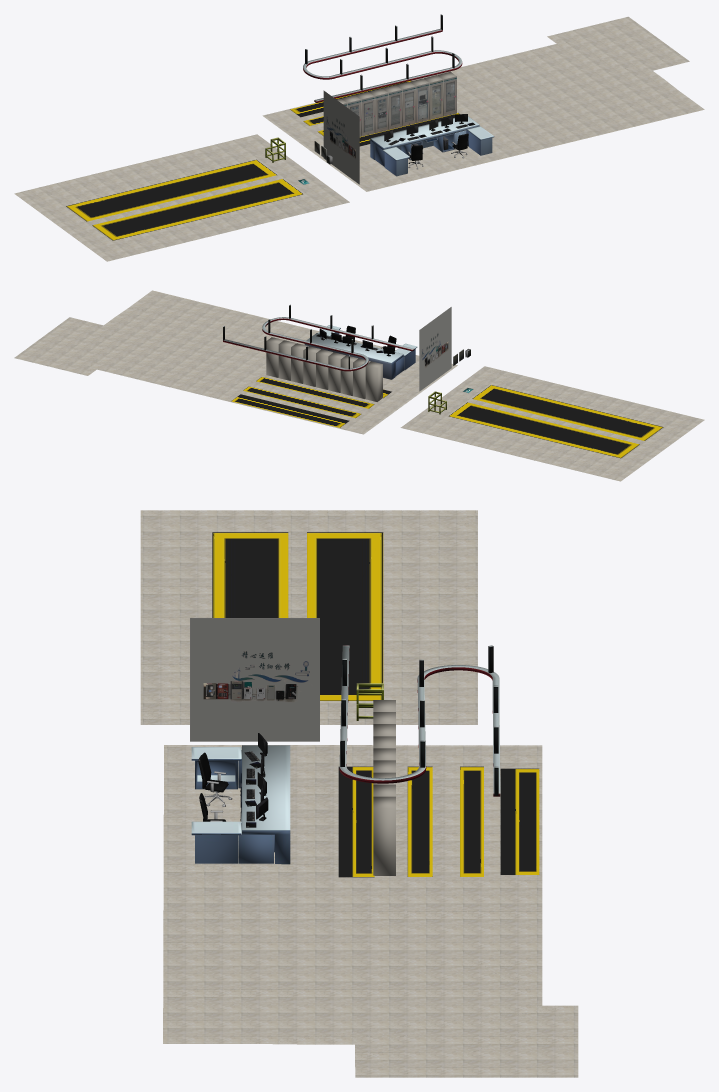
3 views of the same model, one above another, from view 1: azimuth 30°, elevation 25°; view 2: azimuth 150°, elevation 25°; view 3: azimuth 270°, elevation 25° (orthographic). The views are drawn at different scales.
Parts seen in each view (by area): view 1: 22-Material #332 (×2), 22-222, 22-桌子111.1, 22-xinhome1, 22-材质.99, 22-电脑, 22-材质.72, 22-材质.91 (×2), 22-s8, 22-s4, 22-s7, 22-s3 (+3 smaller); view 2: 22-Material #332 (×2), 22-222, 22-材质.72, 22-xinhome1, 22-材质.99, 22-桌子111.1, 22-材质.91, 22-电脑; view 3: 22-Material #332 (×2), 22-222, 22-材质.99, 22-桌子111.1, 22-材质.91 (×2), 22-xinhome1, 22-材质.72, 22-电脑.
Boxes of the visible parts, bbox=[...] form: 22-Material #332 (×2): bbox=[14, 16, 704, 261]; 22-222: bbox=[66, 116, 323, 240]; 22-桌子111.1: bbox=[370, 116, 494, 176]; 22-xinhome1: bbox=[265, 14, 462, 162]; 22-材质.99: bbox=[323, 90, 359, 184]; 22-电脑: bbox=[384, 114, 475, 169]; 22-材质.72: bbox=[336, 71, 456, 136]; 22-材质.91 (×2): bbox=[290, 80, 459, 146]; 22-s8: bbox=[430, 79, 443, 119]; 22-s4: bbox=[375, 93, 388, 133]; 22-s7: bbox=[416, 83, 429, 123]; 22-s3: bbox=[361, 96, 374, 136]; 22-Material #332 (×2): bbox=[14, 290, 704, 481]; 22-222: bbox=[243, 377, 663, 458]; 22-材质.72: bbox=[266, 337, 382, 401]; 22-xinhome1: bbox=[223, 304, 446, 414]; 22-材质.99: bbox=[419, 307, 451, 391]; 22-桌子111.1: bbox=[304, 325, 417, 379]; 22-材质.91: bbox=[231, 394, 349, 427]; 22-电脑: bbox=[316, 325, 396, 356]; 22-Material #332 (×2): bbox=[140, 510, 578, 1077]; 22-222: bbox=[212, 532, 483, 876]; 22-材质.99: bbox=[190, 618, 319, 741]; 22-桌子111.1: bbox=[191, 745, 290, 864]; 22-材质.91 (×2): bbox=[338, 766, 539, 877]; 22-xinhome1: bbox=[339, 645, 500, 796]; 22-材质.72: bbox=[373, 700, 395, 875]; 22-电脑: bbox=[198, 733, 268, 827].
Bounding box in the file's own units: 32.33 × 3.64 × 10.53.
Materials: 24 (20 with a texture image).
